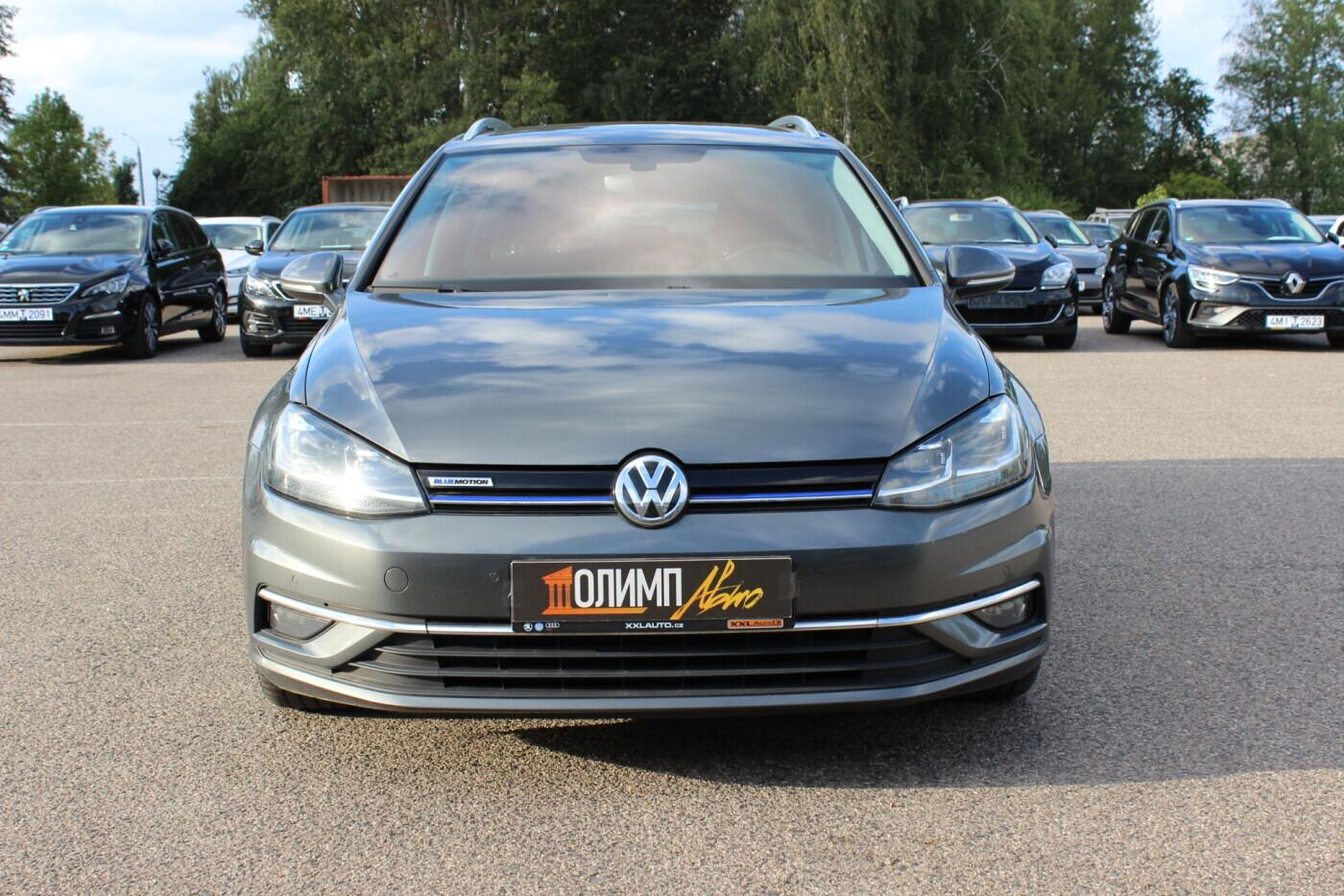Golf_2017-2021: (243, 112, 1062, 732)
